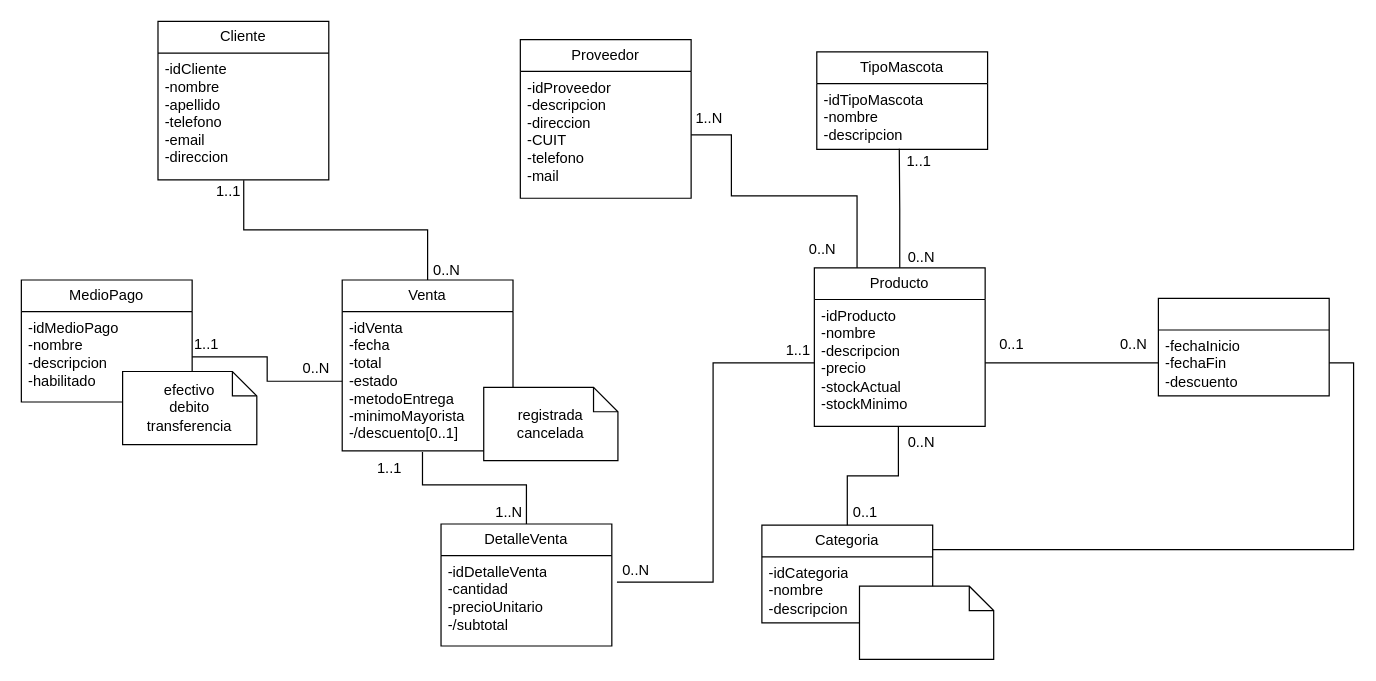
Some shapes in this 1376 by 681 pixel diagram are drawn without their labels. The box of each missing label's shape, as (x1, y1, x2, y2) in pixels:
Alimento Juguete Higiene: (858, 585, 994, 659)
PromocionProducto: (1157, 297, 1329, 396)
